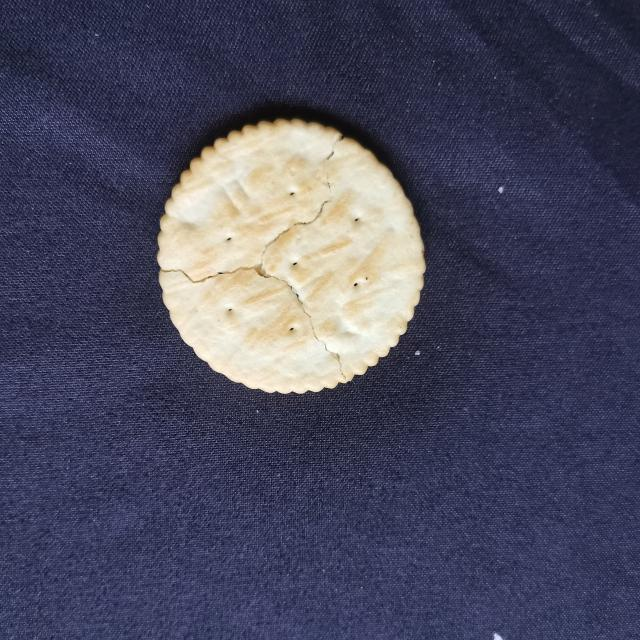Fracture: (158, 130, 358, 381)
